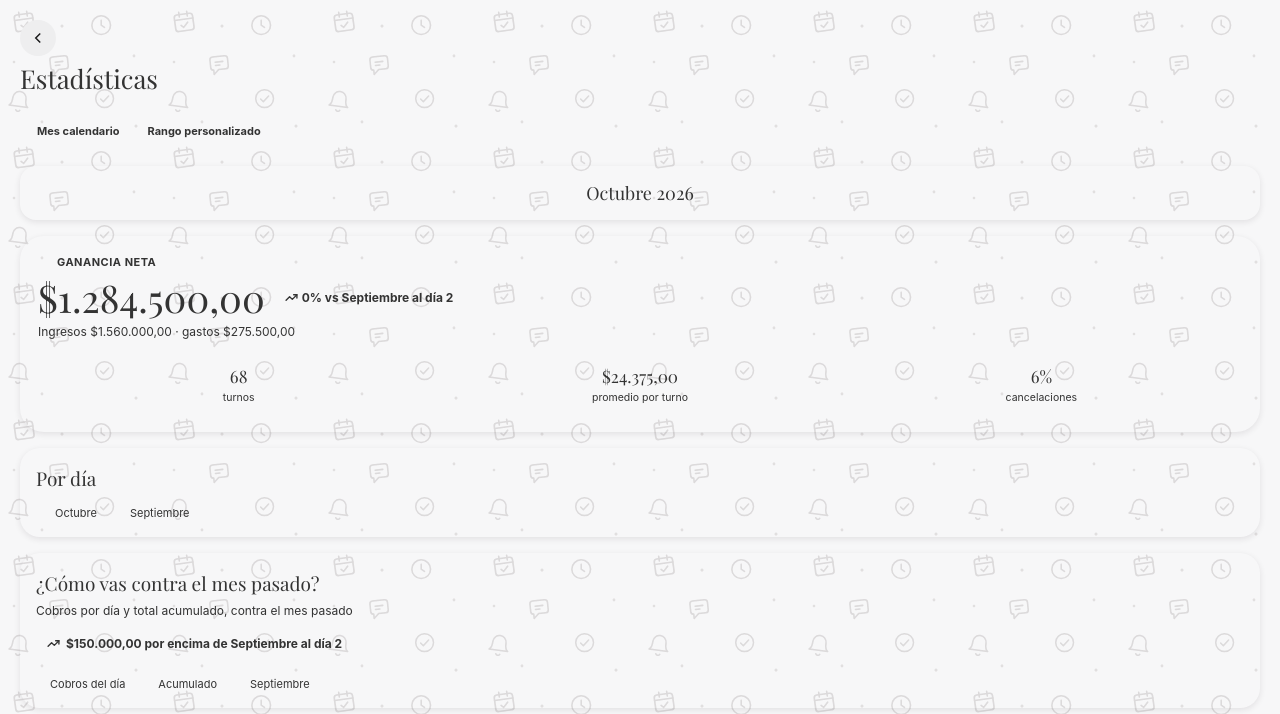
Estadísticas — acumulado vs mes anterior › en rango personalizado no hay tarjeta de acumulado
The width and height of the screenshot is (1280, 714).
Expected: the heading "¿Cómo vas contra el mes pasado?" is shown, [36,570,319,596]
Click the button "Rango personalizado" at (204, 131), box [134,115,275,147]
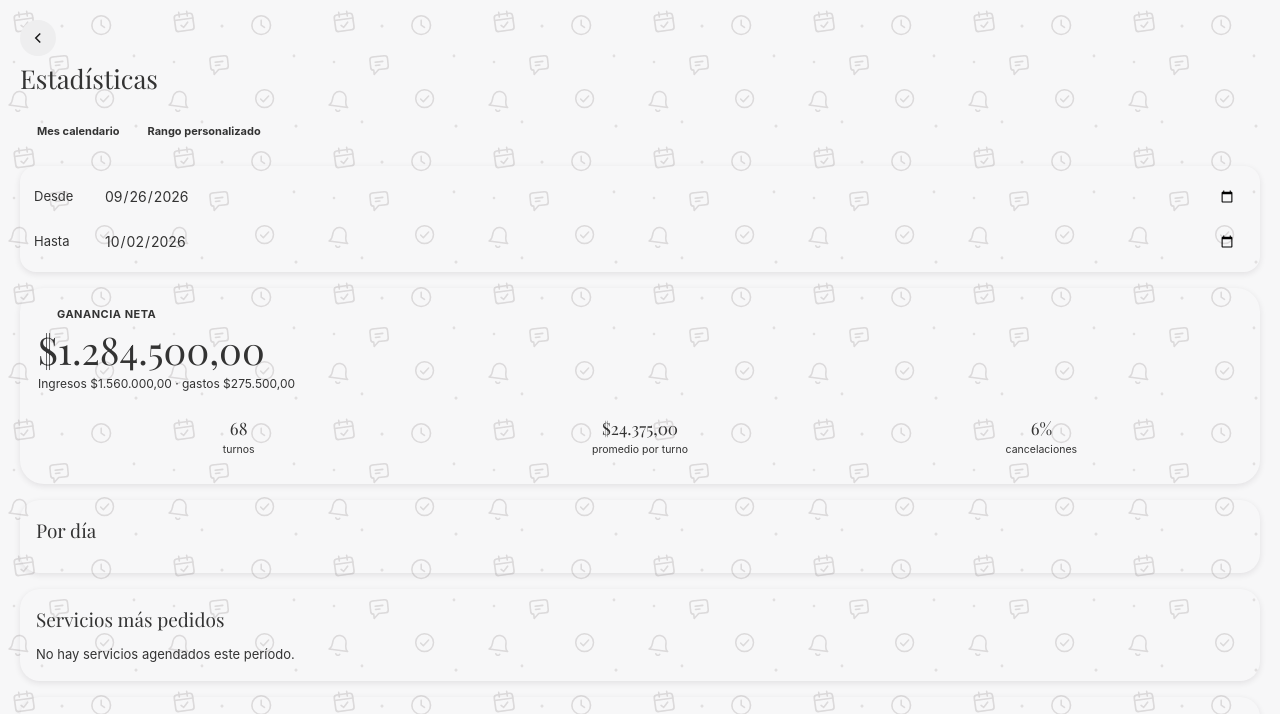
Expected: the heading "¿Cómo vas contra el mes pasado?" is gone
